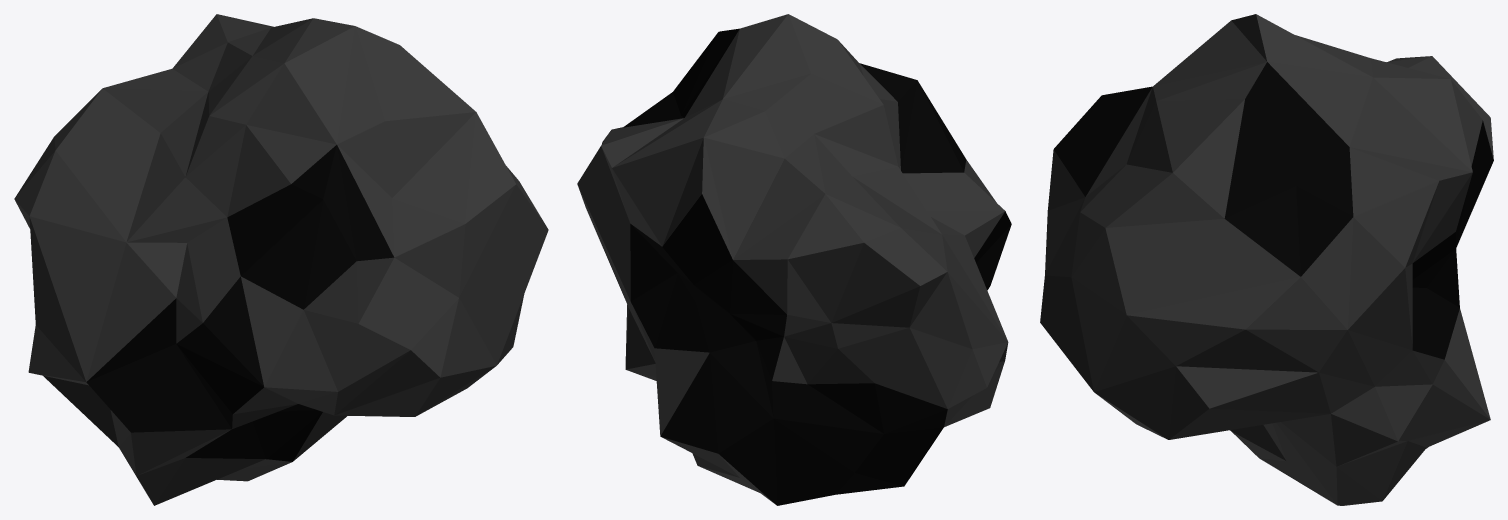
Rendered from Asteroid_2.fbx.
The picture shows the model from 3 angles, left to right: view 1: azimuth 30°, elevation 25°; view 2: azimuth 150°, elevation 25°; view 3: azimuth 270°, elevation 25°; orthographic projection. The views are drawn at different scales.
Parts seen in each view (by area): view 1: Asteroid_2; view 2: Asteroid_2; view 3: Asteroid_2.
Boxes of the visible parts, x1,y1,x2,y2 form: Asteroid_2: [14, 14, 548, 505]; Asteroid_2: [577, 14, 1011, 505]; Asteroid_2: [1040, 14, 1493, 505].
Bounding box in the file's own units: 719 × 744 × 608.
